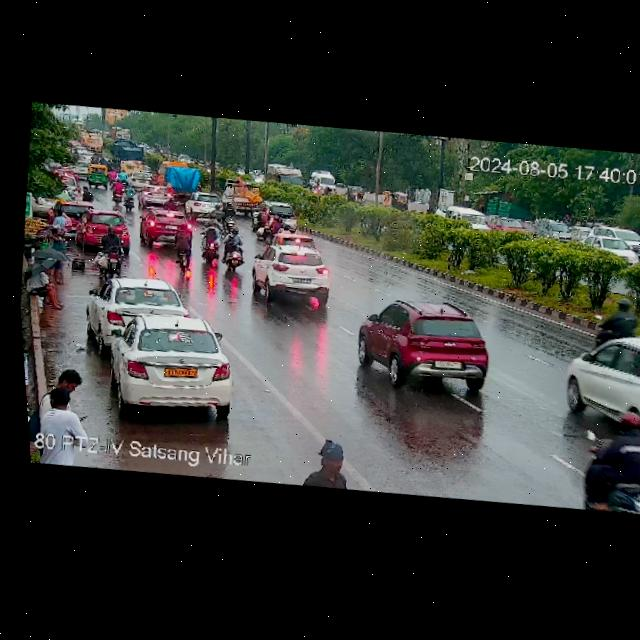bus: (152, 158, 170, 185)
car: (347, 289, 510, 396), (100, 307, 246, 421), (553, 324, 640, 453), (85, 269, 189, 344), (249, 240, 345, 309), (143, 208, 194, 254), (71, 206, 124, 249), (593, 234, 640, 265), (444, 201, 490, 230), (590, 221, 640, 247), (183, 190, 227, 219), (65, 197, 95, 238), (535, 218, 575, 244), (138, 183, 173, 210), (253, 199, 296, 220), (490, 213, 524, 233), (86, 161, 109, 187), (127, 168, 155, 189)
motorcycle: (572, 397, 640, 517), (196, 208, 253, 274), (92, 222, 131, 267), (208, 203, 245, 237), (257, 210, 292, 239), (111, 138, 145, 167), (47, 159, 88, 182), (114, 184, 137, 210), (110, 180, 129, 202), (122, 184, 139, 208), (637, 229, 640, 269)
person: (34, 381, 91, 438), (18, 259, 71, 315), (303, 432, 353, 490), (22, 332, 44, 452), (40, 227, 72, 289), (53, 363, 90, 391), (51, 208, 69, 232), (79, 186, 92, 203), (72, 183, 85, 198)
truck: (220, 180, 266, 215), (163, 163, 204, 202), (264, 162, 305, 190), (110, 125, 132, 140)
